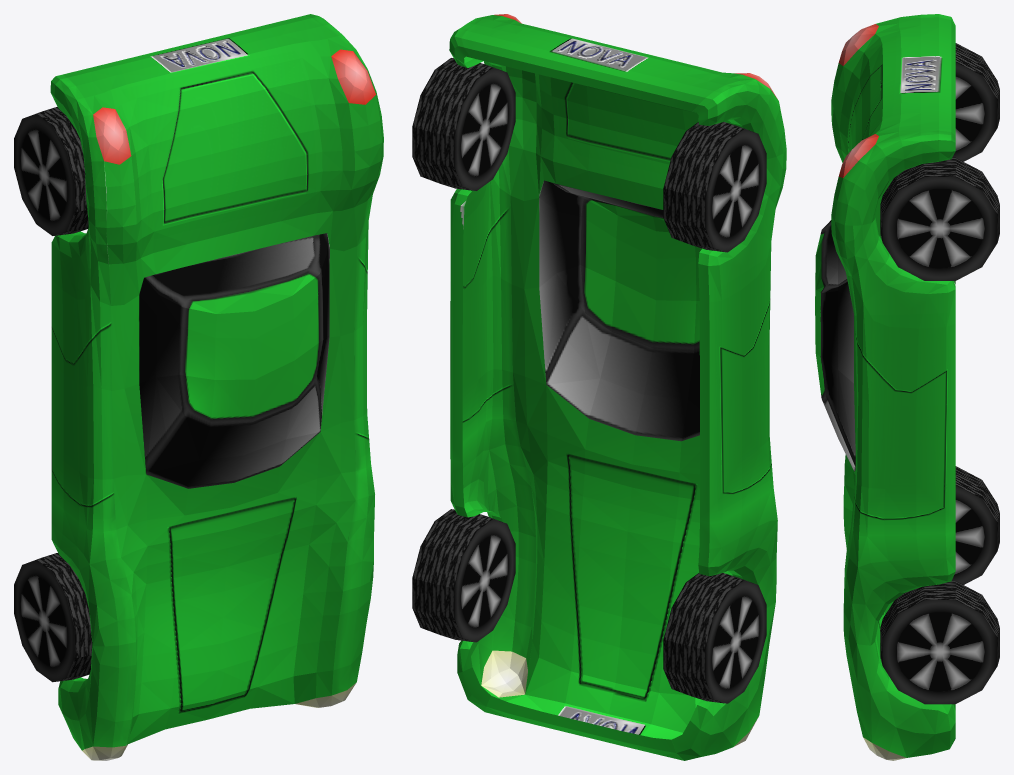
The model's file is Nova Car.obj.
3 renders of one model, left to right at view 1: azimuth 30°, elevation 25°; view 2: azimuth 150°, elevation 25°; view 3: azimuth 270°, elevation 25°, orthographic. The views are drawn at different scales.
Visible parts, largest first — view 1: Car_Plane; view 2: Car_Plane; view 3: Car_Plane.
Boxes of the visible parts, <box> form: Car_Plane: <box>14,14,383,760</box>; Car_Plane: <box>412,14,786,760</box>; Car_Plane: <box>815,14,999,760</box>.
Size of the model in its own units: 2.94 by 6.42 by 1.7.
Materials: 2 (2 with a texture image).
